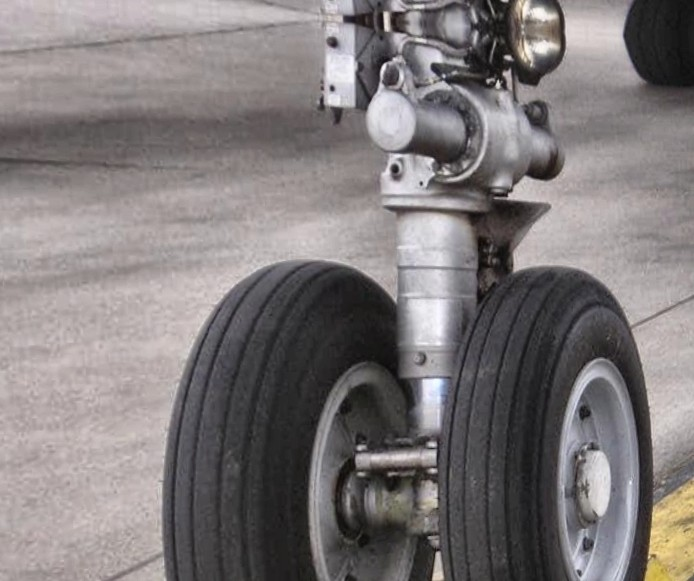wheel: (140, 237, 436, 581), (432, 247, 664, 581), (623, 26, 694, 95), (620, 0, 694, 49)
